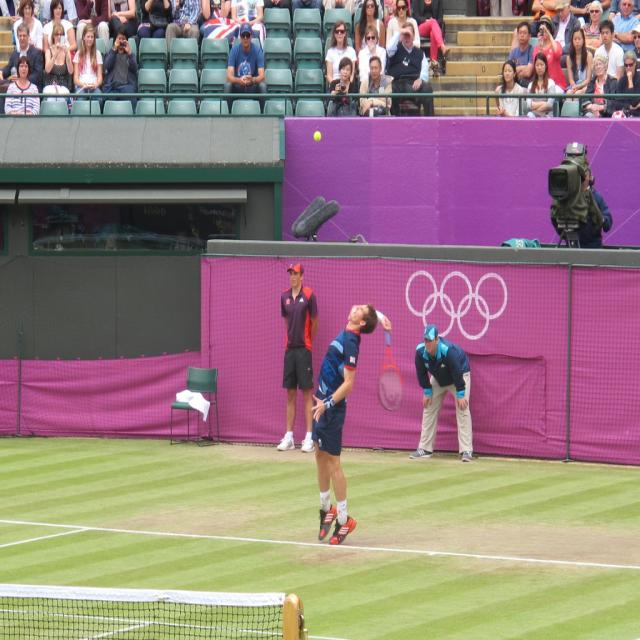ball: (310, 127, 324, 146)
